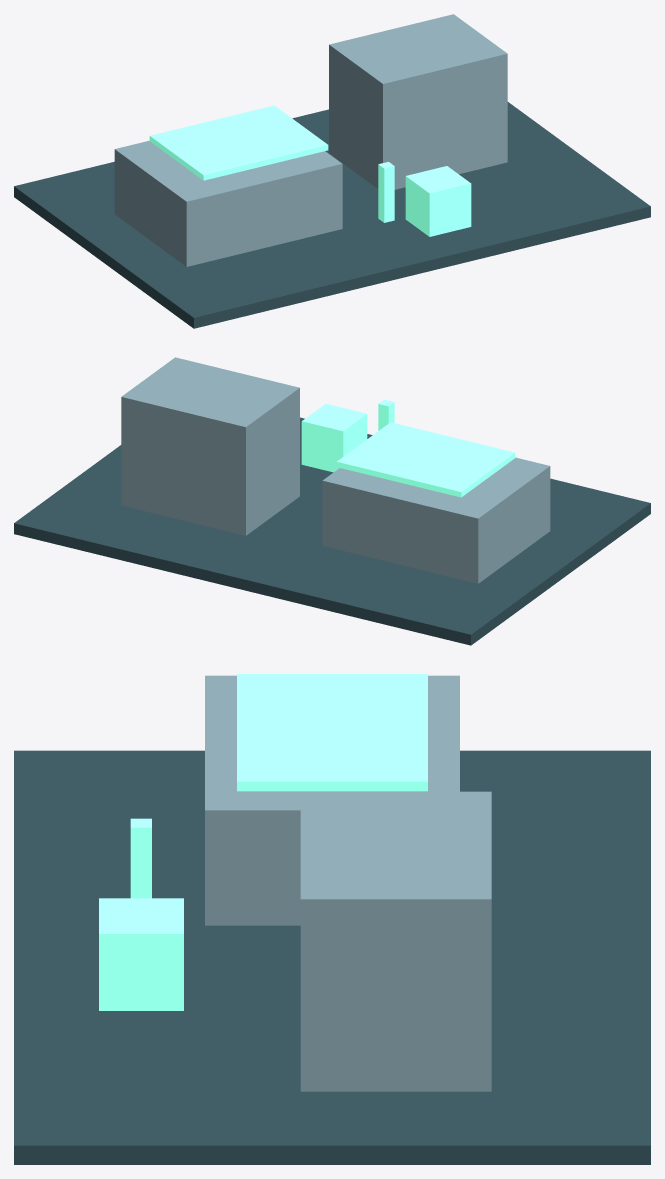
File: factory-sample.glb
3 views of the same model, one above another, from view 1: azimuth 30°, elevation 25°; view 2: azimuth 150°, elevation 25°; view 3: azimuth 270°, elevation 25° (orthographic). The views are drawn at different scales.
Parts seen in each view (by area): view 1: 园区基座, 厂房 B, 厂房 A, 能源设施, 智慧设备, 机械臂; view 2: 园区基座, 厂房 B, 厂房 A, 能源设施, 智慧设备, 机械臂; view 3: 园区基座, 厂房 B, 能源设施, 厂房 A, 智慧设备, 机械臂.
Boxes of the visible parts, x1,y1,x2,y2 form: 园区基座: (14,102,650,328); 厂房 B: (329,14,507,189); 厂房 A: (114,140,342,266); 能源设施: (149,105,328,180); 智慧设备: (405,166,471,236); 机械臂: (378,162,394,222); 园区基座: (14,417,650,645); 厂房 B: (121,357,299,535); 厂房 A: (322,457,550,583); 能源设施: (336,422,515,497); 智慧设备: (301,404,367,472); 机械臂: (378,399,394,430); 园区基座: (14,750,650,1164); 厂房 B: (300,791,491,1091); 能源设施: (237,674,427,791); 厂房 A: (205,675,459,925); 智慧设备: (99,898,183,1010); 机械臂: (130,818,151,898).
Size of the model in its own units: 44 by 11 by 30.
